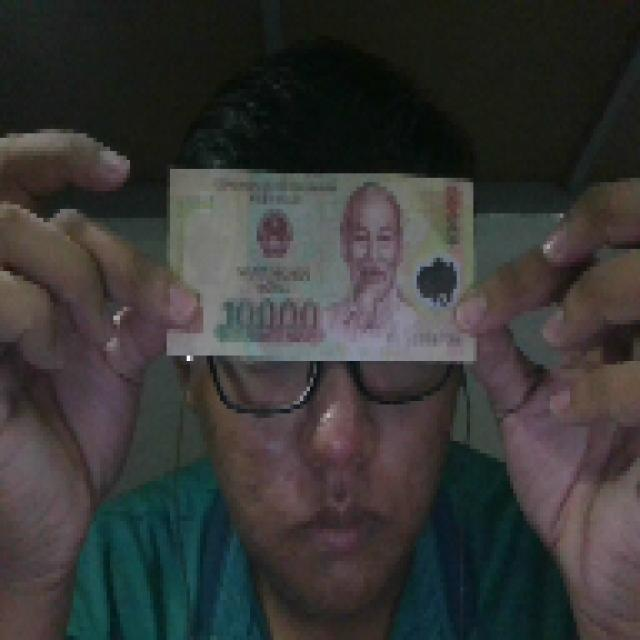10 000 VND: (160, 160, 480, 364)
